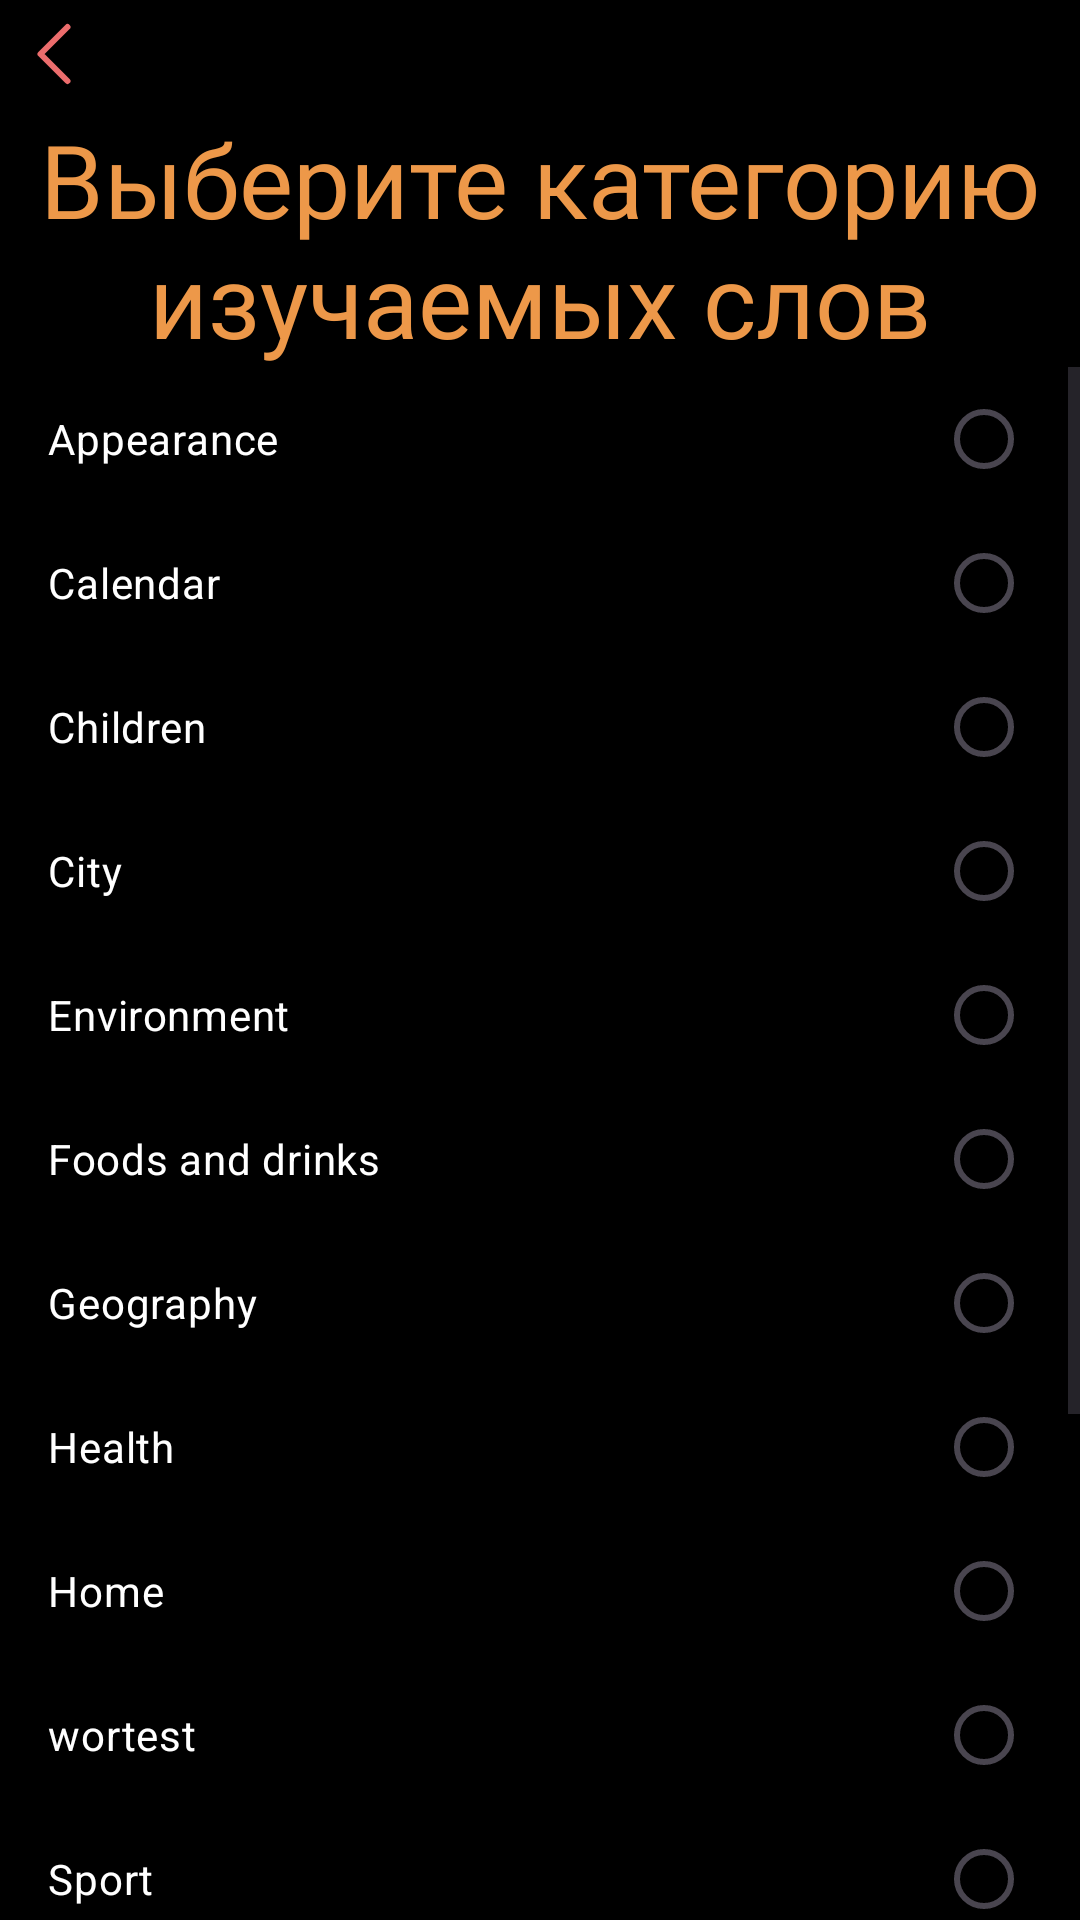

Where icons sit on this 1080x1920 app screen, as (x1, y1, x2, y2):
left arrow: (37, 23, 71, 85)
